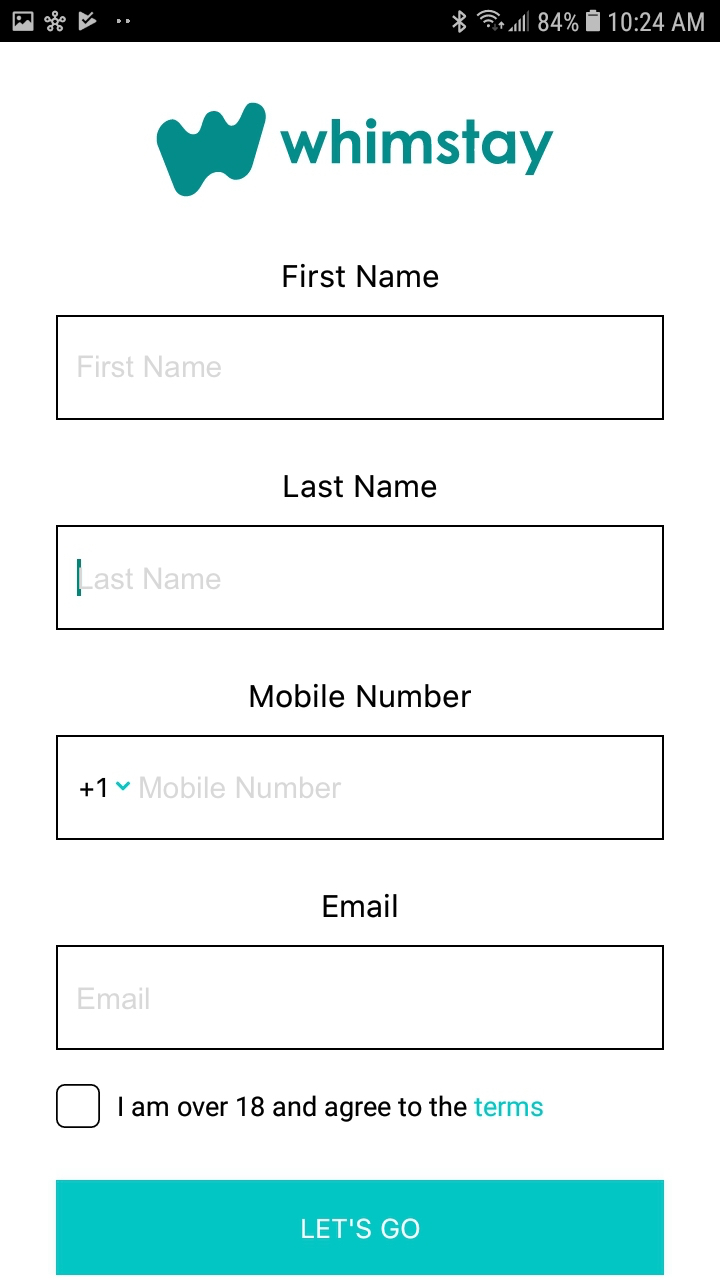CheckedTextView: (56, 1084, 544, 1128)
EditText: (57, 316, 664, 421), (57, 945, 664, 1050), (57, 735, 664, 840), (57, 526, 664, 631)
Icon: (117, 782, 131, 792)
Image: (156, 103, 267, 198)
Text: (280, 118, 555, 177), (119, 1095, 544, 1123), (251, 685, 472, 709), (141, 776, 342, 799), (283, 264, 439, 289), (284, 476, 437, 499), (79, 356, 222, 379), (80, 568, 222, 591), (324, 894, 398, 918), (79, 987, 150, 1010), (81, 779, 107, 798)
TextButton: (56, 1179, 664, 1275)
UpperTaskBar: (1, 1, 720, 43)
